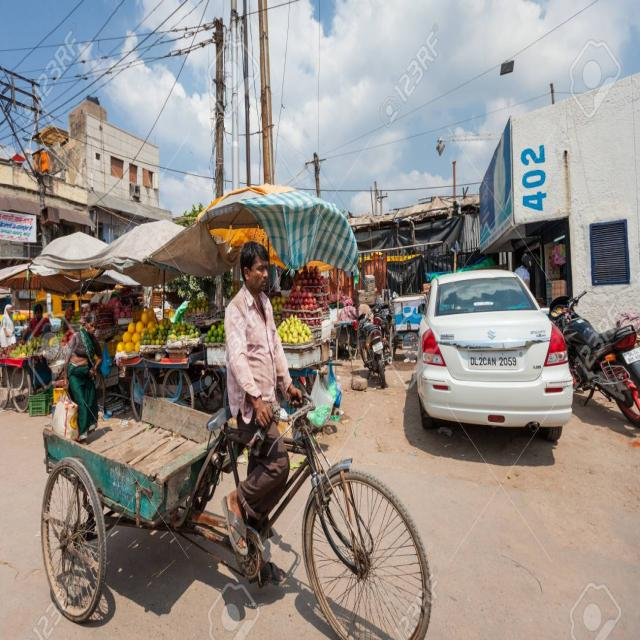car: (418, 270, 572, 441)
motorcycle: (549, 293, 640, 426), (358, 315, 386, 387)
